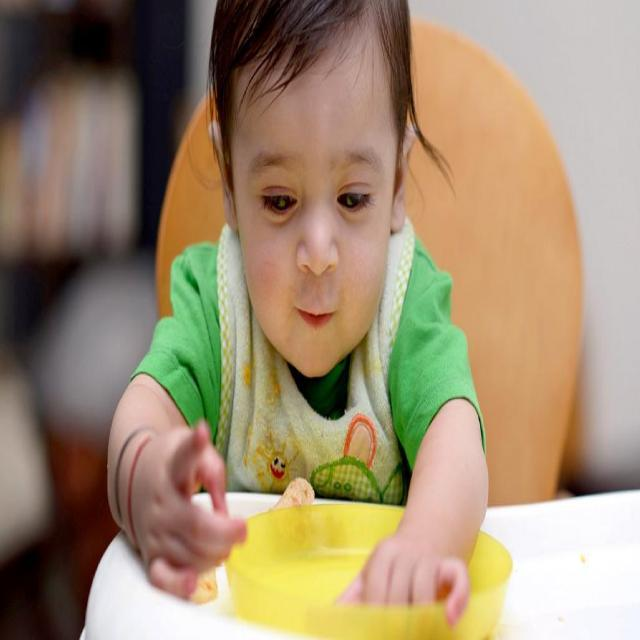child: (100, 6, 488, 620)
